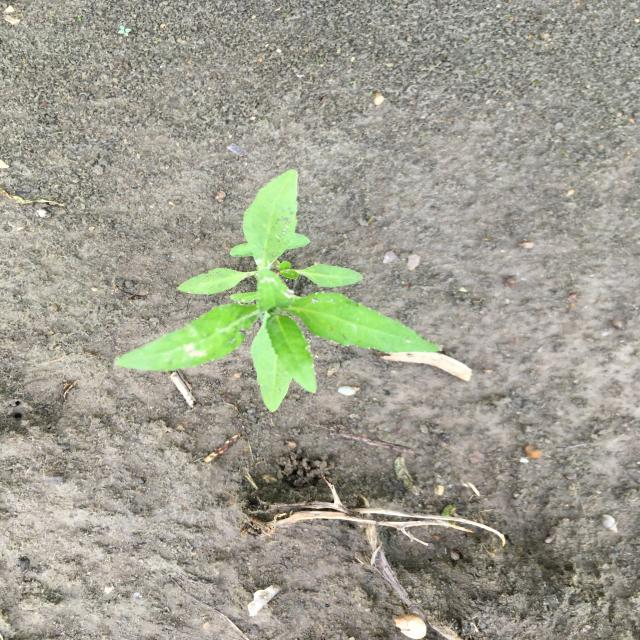Eclipta: (110, 166, 446, 414)
